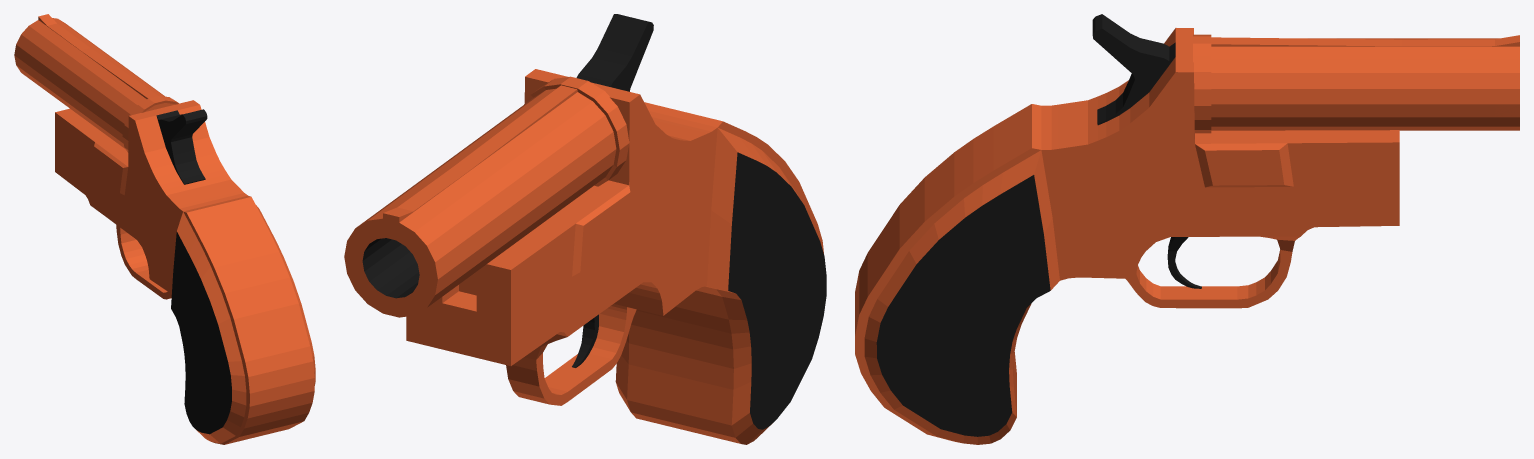
File: flaregun.fbx
The picture shows the model from 3 angles, left to right: view 1: azimuth 30°, elevation 25°; view 2: azimuth 150°, elevation 25°; view 3: azimuth 270°, elevation 25°; orthographic projection. The views are drawn at different scales.
Visible parts, largest first — view 1: Cylinder; view 2: Cylinder; view 3: Cylinder.
Boxes of the visible parts, left/top/right/bottom form: Cylinder: left=14, top=14, right=315, bottom=444; Cylinder: left=344, top=14, right=826, bottom=444; Cylinder: left=855, top=14, right=1519, bottom=444.
Size of the model in its own units: 97.51 by 322 by 484.
